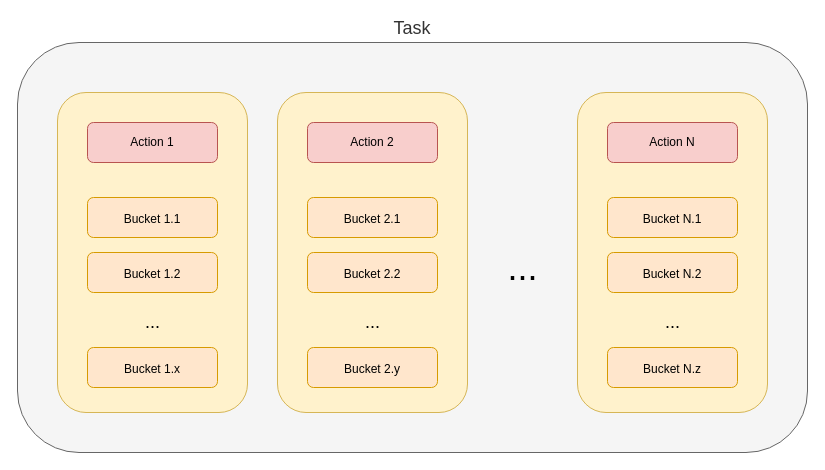
The diagram is 825 pixels wide and 470 high, and some of its shapes have lost their labels. The box of each missing label's shape, as (x1, y1, x2, y2) in pixels:
Partition 1: (56, 92, 248, 412)
Partition 2: (276, 92, 468, 412)
Partition N: (576, 92, 768, 412)
